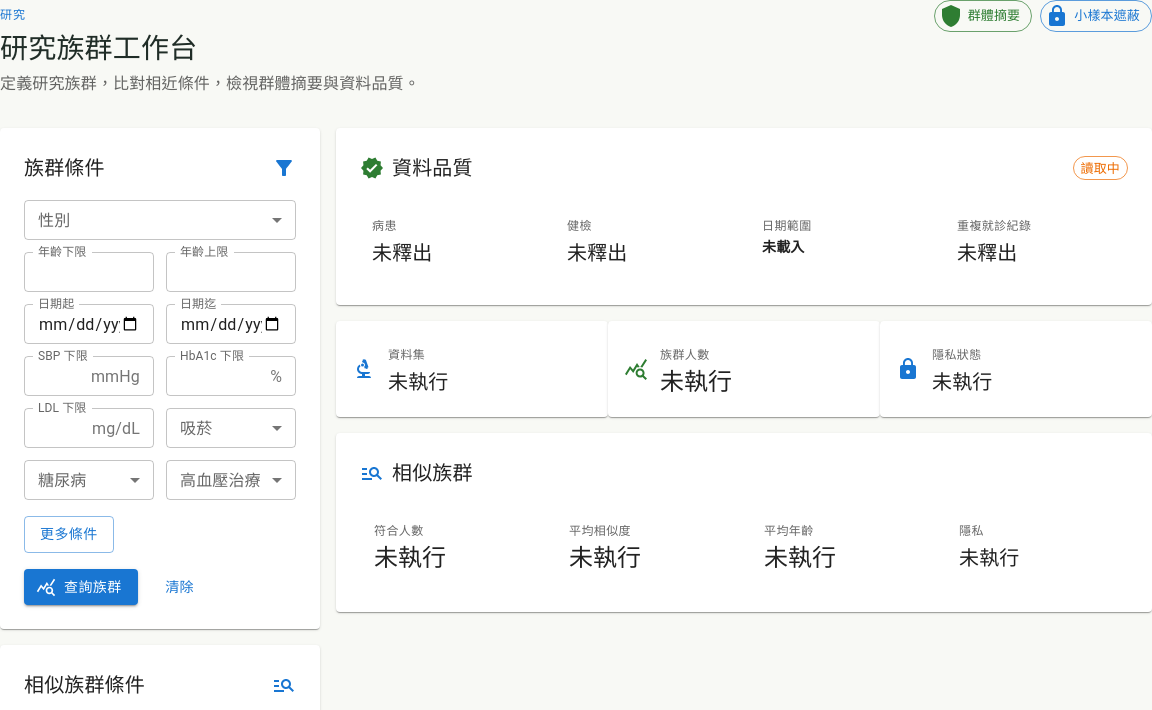
Test: invalid cohort range is rejected before API query
Type "70" into the number field labelled "年齡下限". click: point(89, 272)
box: 24,252 -> 154,292
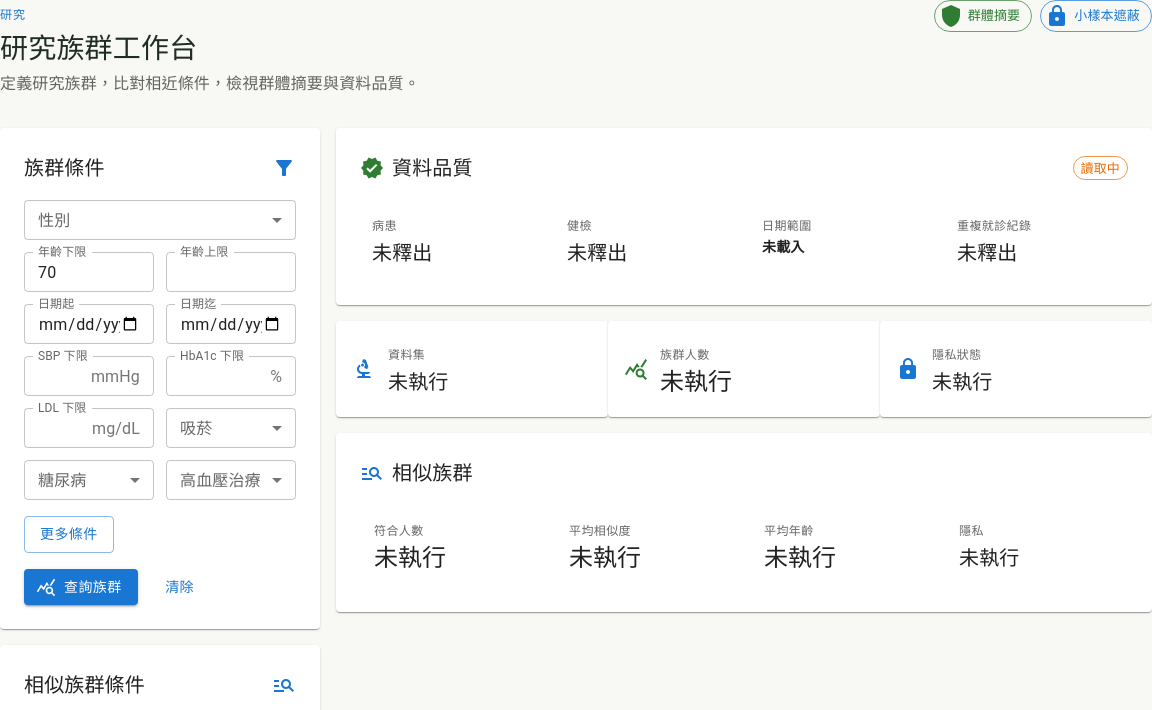
Type "30" into the number field labelled "年齡上限". click: point(231, 272)
box: 166,252 -> 296,292
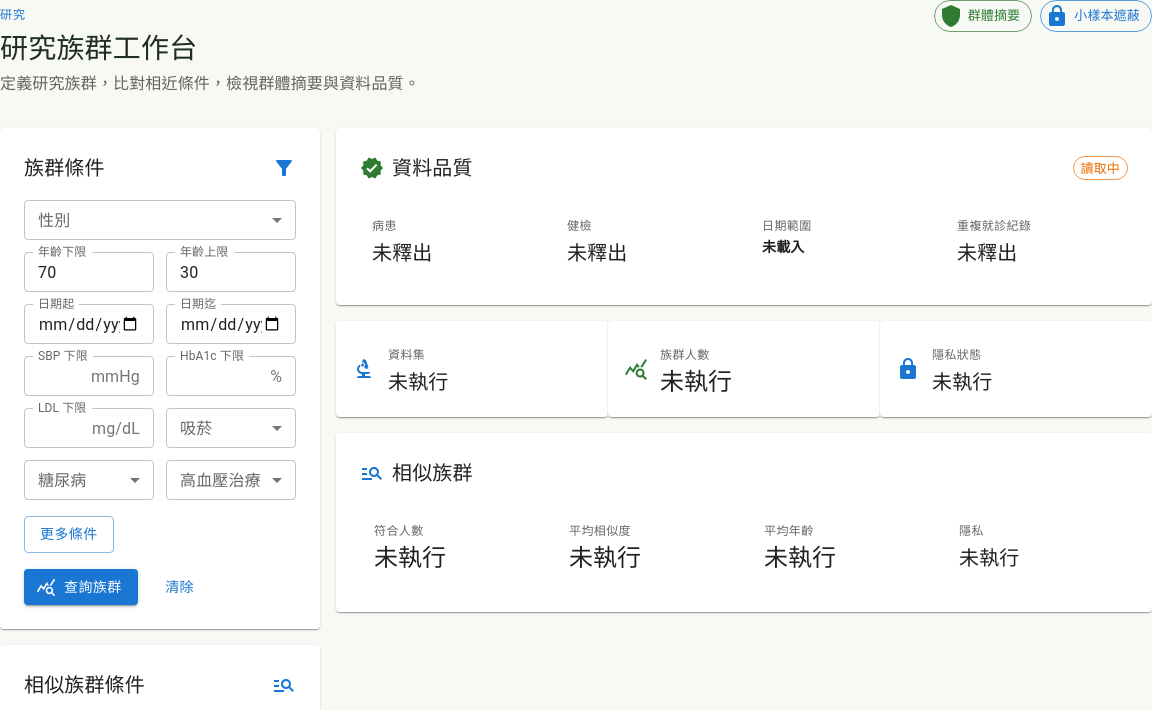
Click the button "查詢族群". click: point(81, 587)
box: 24,569 -> 138,606
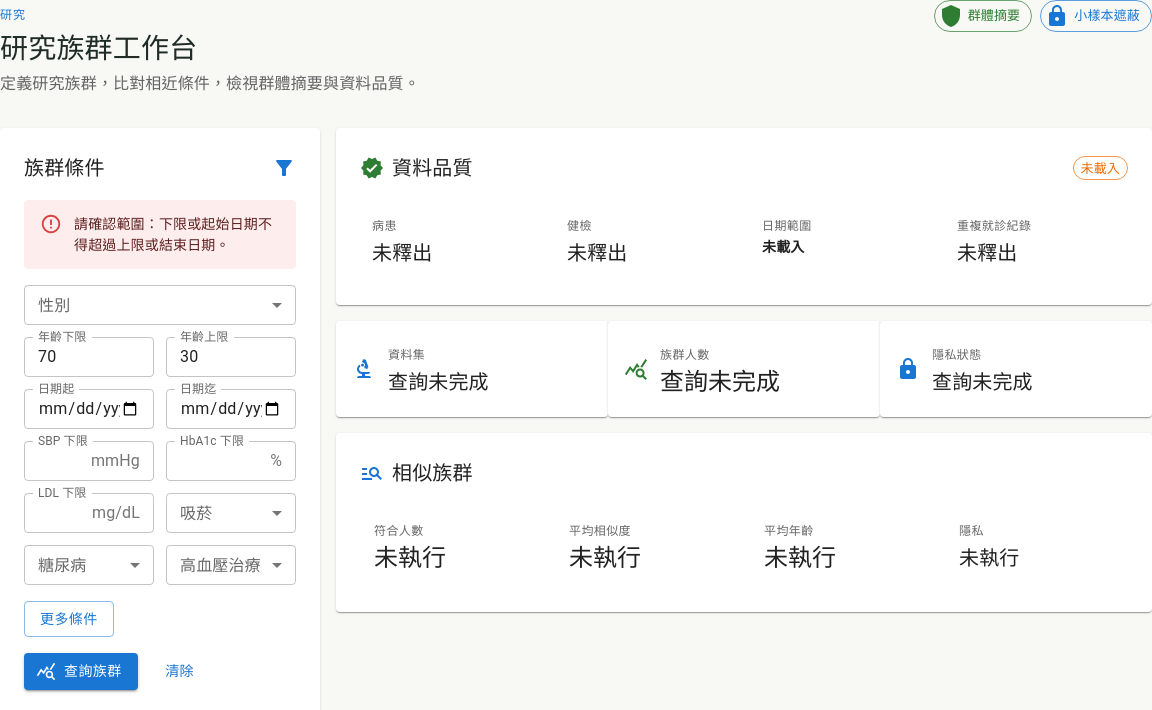
Expected: the text "查詢未完成" is shown 3 times, 388,366 -> 489,398; 660,366 -> 780,398; 932,366 -> 1033,398
Expected: the text "請確認範圍：下限或起始日期不得超過上限或結束日期。" is shown, 74,206 -> 280,262
